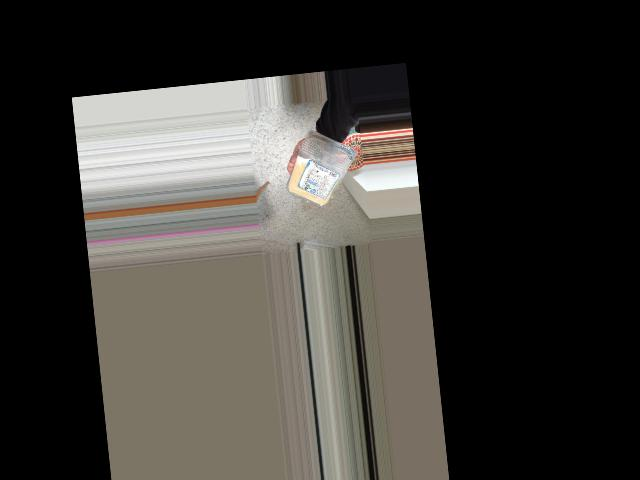cheese: (287, 134, 356, 211)
